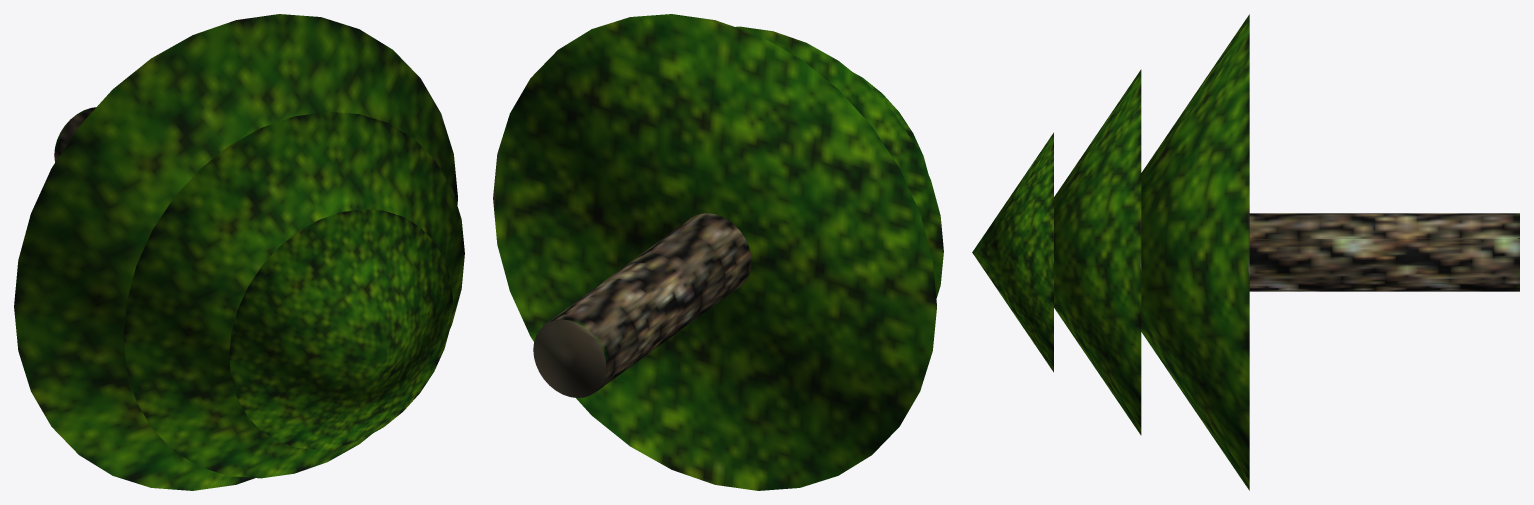
File: tree.fbx
3 renders of one model, left to right at view 1: azimuth 30°, elevation 25°; view 2: azimuth 150°, elevation 25°; view 3: azimuth 270°, elevation 25°, orthographic. The views are drawn at different scales.
Parts seen in each view (by area): view 1: Cone, Cylinder; view 2: Cone, Cylinder; view 3: Cone, Cylinder.
Part boxes in pixels (left/top/right/bottom): Cone: left=14, top=14, right=464, bottom=490; Cylinder: left=54, top=107, right=96, bottom=162; Cone: left=493, top=14, right=943, bottom=490; Cylinder: left=533, top=213, right=751, bottom=397; Cone: left=972, top=14, right=1249, bottom=490; Cylinder: left=1249, top=213, right=1519, bottom=291.
Bounding box in the file's own units: 5.8 × 5.8 × 6.65.
Materials: 2 (2 with a texture image).
